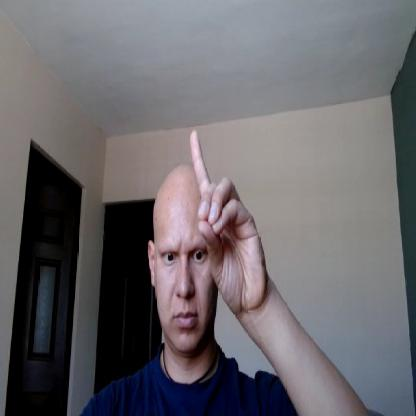D: (189, 129, 268, 310)
